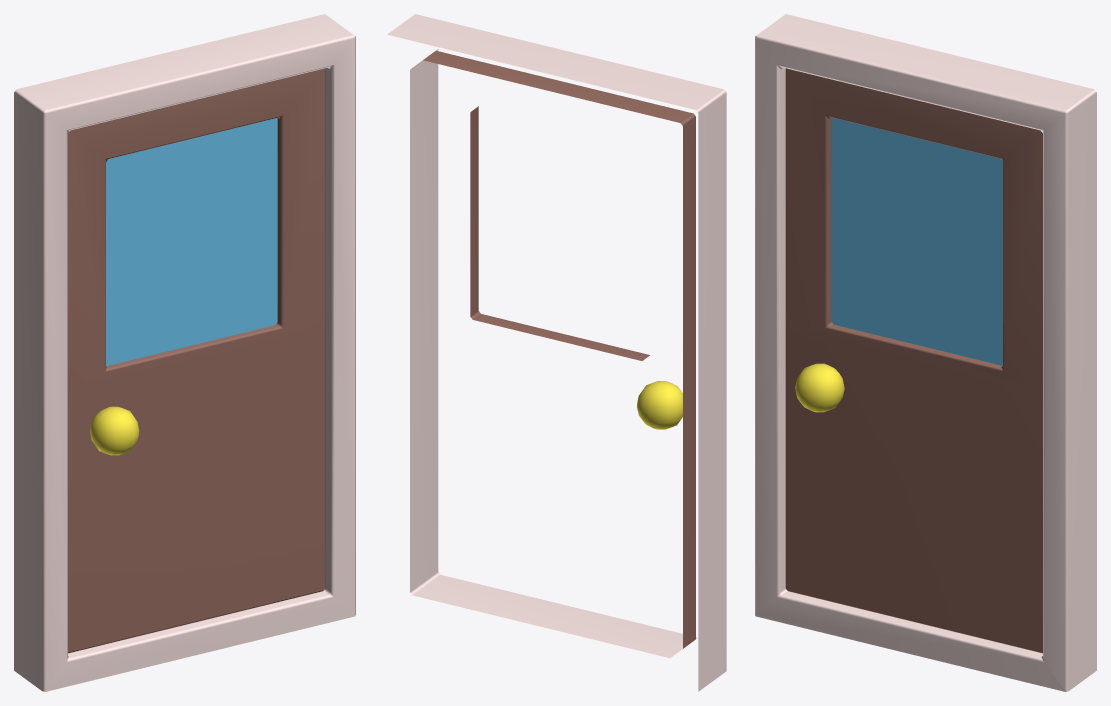
File: City_13_Door_1.glb
3 views of the same model, side by side, from view 1: azimuth 30°, elevation 25°; view 2: azimuth 150°, elevation 25°; view 3: azimuth 330°, elevation 25° (orthographic).
Parts seen in each view (by area): view 1: City_13_Door_1; view 2: City_13_Door_1; view 3: City_13_Door_1.
Boxes of the visible parts, x1=… form: City_13_Door_1: x1=14, y1=14, x2=355, y2=691; City_13_Door_1: x1=387, y1=14, x2=726, y2=691; City_13_Door_1: x1=755, y1=14, x2=1096, y2=691.
Bounding box in the file's own units: 1.27 × 2.25 × 0.3106.
Materials: 1 (1 with a texture image).
